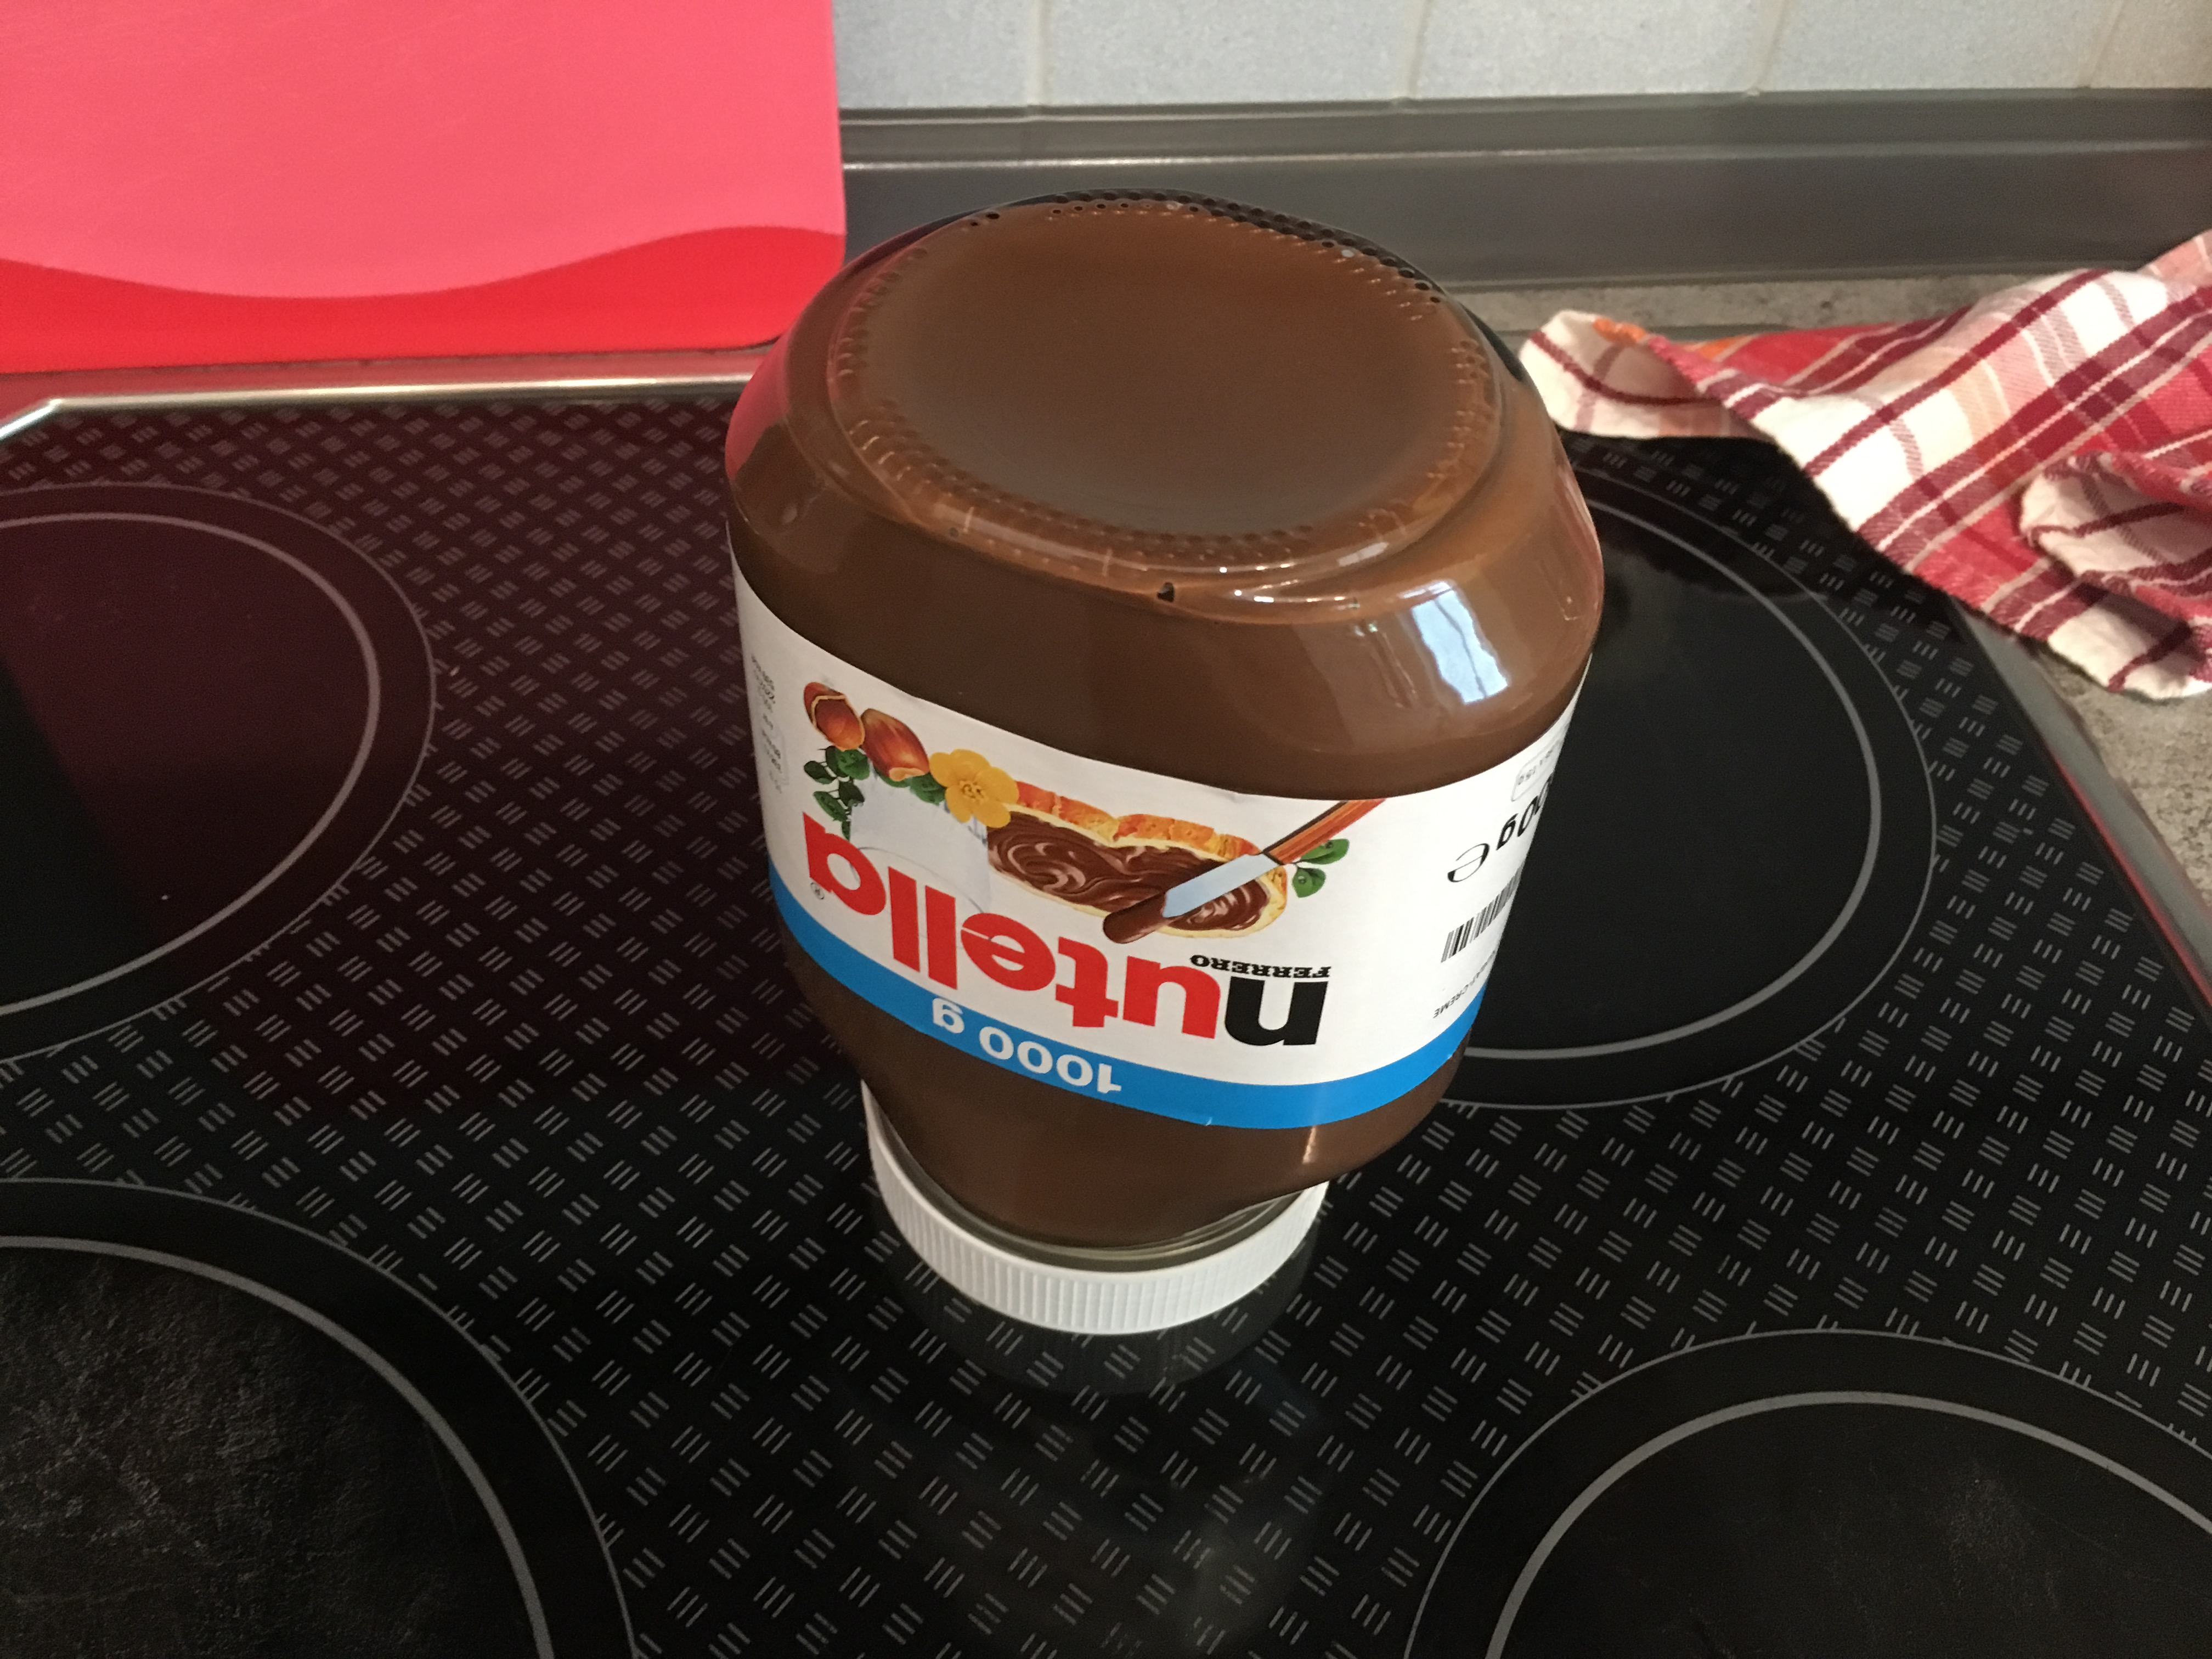nutella: (725, 192, 1599, 1344)
